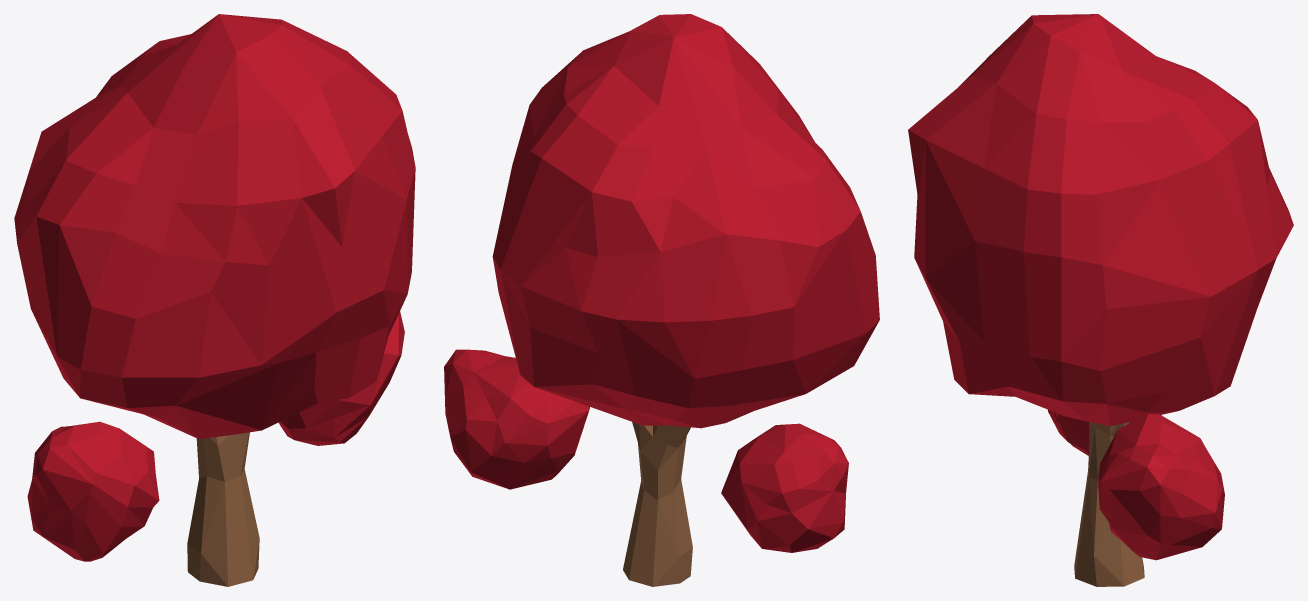
The model's file is tree-dead-complete-3-007.glb.
The picture shows the model from 3 angles, left to right: view 1: azimuth 30°, elevation 25°; view 2: azimuth 150°, elevation 25°; view 3: azimuth 270°, elevation 25°; orthographic projection. The views are drawn at different scales.
Visible parts, largest first — view 1: TREE 3.007_511, TREE 3.006_512; view 2: TREE 3.007_511, TREE 3.006_512; view 3: TREE 3.007_511, TREE 3.006_512.
Boxes of the visible parts, bbox=[...] form: TREE 3.007_511: bbox=[14, 14, 415, 561]; TREE 3.006_512: bbox=[187, 432, 259, 586]; TREE 3.007_511: bbox=[444, 14, 879, 552]; TREE 3.006_512: bbox=[623, 422, 692, 586]; TREE 3.007_511: bbox=[908, 14, 1293, 560]; TREE 3.006_512: bbox=[1074, 422, 1144, 586].
Size of the model in its own units: 1.04 by 1.42 by 0.8969.
